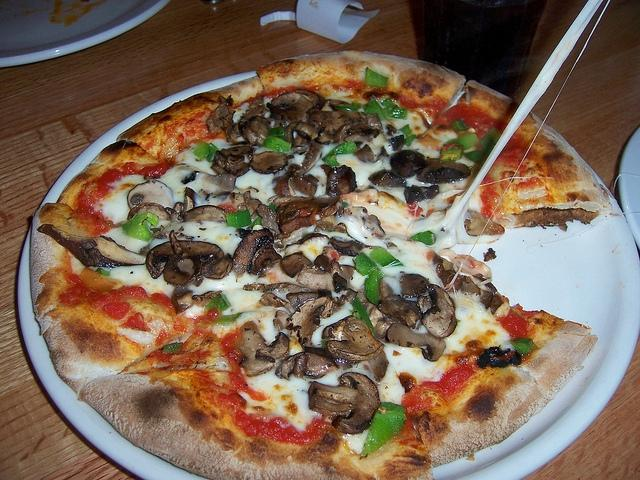bell pepper: (360, 402, 408, 456), (122, 212, 159, 242), (363, 266, 388, 306), (322, 141, 357, 167), (352, 298, 375, 336), (478, 127, 502, 157), (443, 132, 479, 151), (369, 248, 404, 266), (352, 252, 378, 276), (362, 99, 389, 121), (204, 293, 231, 314), (262, 136, 292, 153), (510, 338, 538, 356), (366, 66, 388, 88), (210, 312, 244, 326), (226, 210, 252, 228), (410, 231, 436, 245), (440, 146, 462, 162), (381, 97, 398, 116), (192, 142, 210, 159), (387, 106, 408, 120), (464, 150, 484, 164), (162, 342, 184, 354), (335, 102, 362, 111), (206, 143, 218, 162), (451, 119, 468, 131), (399, 123, 412, 138), (269, 126, 285, 138), (404, 134, 417, 146), (96, 268, 110, 276), (268, 202, 276, 213), (342, 202, 349, 208)
mushroom: (37, 224, 147, 268), (307, 372, 381, 434), (146, 240, 224, 280), (322, 314, 385, 360), (286, 296, 334, 347), (387, 322, 446, 362), (266, 89, 326, 128), (418, 284, 458, 338), (233, 227, 275, 274), (259, 289, 333, 315), (275, 352, 339, 380), (270, 164, 318, 198), (432, 252, 470, 294), (210, 144, 256, 177), (378, 294, 422, 328), (334, 222, 386, 250), (127, 180, 175, 210), (416, 158, 471, 183), (325, 164, 358, 198), (276, 199, 316, 226), (391, 150, 428, 178), (464, 211, 505, 236), (240, 320, 272, 352), (250, 151, 294, 174), (240, 115, 272, 146), (283, 121, 319, 148), (181, 205, 230, 224), (205, 103, 237, 132), (243, 282, 313, 294), (399, 271, 430, 298), (281, 252, 313, 278), (204, 254, 234, 280), (367, 169, 408, 188), (128, 202, 170, 220), (368, 348, 390, 382), (343, 123, 378, 142), (302, 142, 324, 172), (204, 173, 237, 191), (353, 144, 375, 163), (255, 348, 278, 364), (170, 229, 183, 256), (184, 186, 196, 212), (165, 206, 184, 222), (314, 254, 329, 272), (411, 322, 417, 329)
